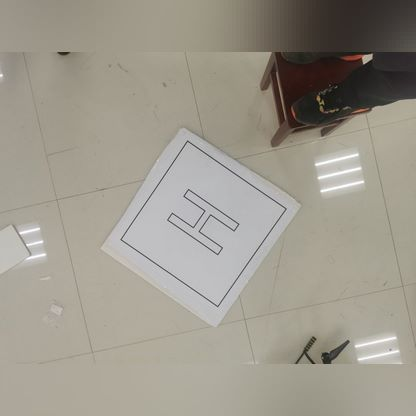H: (158, 175, 237, 254)
